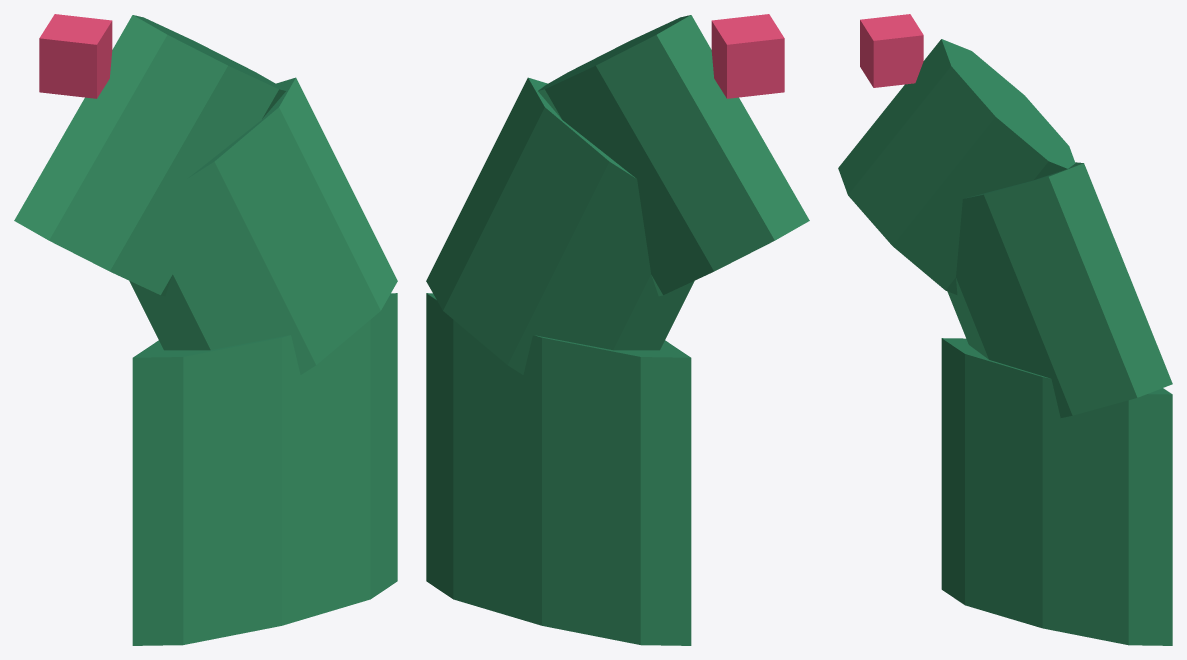
The model's file is CA_Cactus_Pala.obj.
The picture shows the model from 3 angles, left to right: view 1: azimuth 30°, elevation 25°; view 2: azimuth 150°, elevation 25°; view 3: azimuth 330°, elevation 25°; orthographic projection. The views are drawn at different scales.
Visible parts, largest first — view 1: CA_Cactus_Pala; view 2: CA_Cactus_Pala; view 3: CA_Cactus_Pala.
Boxes of the visible parts, x1=… form: CA_Cactus_Pala: x1=14, y1=14, x2=397, y2=645; CA_Cactus_Pala: x1=426, y1=14, x2=809, y2=645; CA_Cactus_Pala: x1=838, y1=14, x2=1172, y2=645.
Bounding box in the file's own units: 1.11 × 1.75 × 0.2122.
